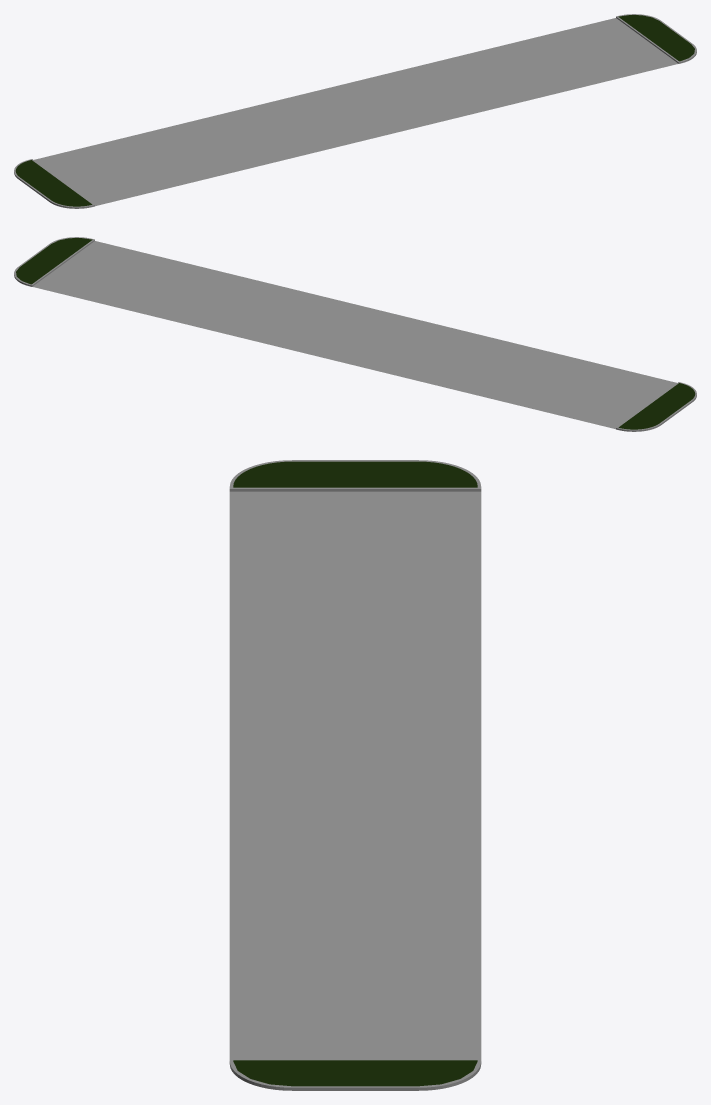
Rendered from RT ParkIs V02.FBX.
3 views of the same model, one above another, from view 1: azimuth 30°, elevation 25°; view 2: azimuth 150°, elevation 25°; view 3: azimuth 270°, elevation 25° (orthographic). The views are drawn at different scales.
Parts seen in each view (by area): view 1: RT Parkis Lines V02 S, RT ParkIs V02 HI, RT ParkIs V02 LOW; view 2: RT Parkis Lines V02 S, RT ParkIs V02 HI, RT ParkIs V02 LOW; view 3: RT Parkis Lines V02 S, RT ParkIs V02 HI, RT ParkIs V02 LOW.
Boxes of the visible parts, left/top/right/bottom form: RT Parkis Lines V02 S: left=34, top=18, right=678, bottom=206; RT ParkIs V02 HI: left=14, top=14, right=696, bottom=208; RT ParkIs V02 LOW: left=35, top=14, right=696, bottom=201; RT Parkis Lines V02 S: left=32, top=241, right=676, bottom=429; RT ParkIs V02 HI: left=14, top=237, right=696, bottom=431; RT ParkIs V02 LOW: left=14, top=237, right=692, bottom=429; RT Parkis Lines V02 S: left=229, top=491, right=481, bottom=1058; RT ParkIs V02 HI: left=229, top=460, right=481, bottom=1090; RT ParkIs V02 LOW: left=229, top=489, right=481, bottom=1090.
Size of the model in its own units: 65 by 0.1501 by 11.
